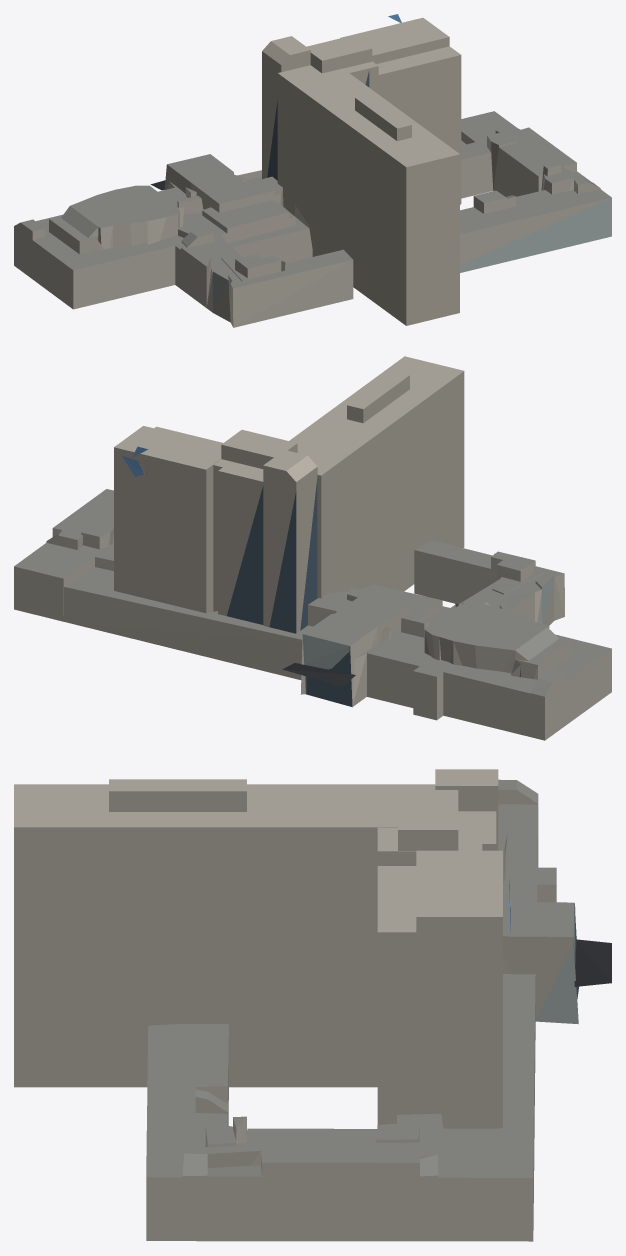
Rendered from vu-hoofdgebouw.lod2.glb.
3 renders of one model, top to bottom at view 1: azimuth 30°, elevation 25°; view 2: azimuth 150°, elevation 25°; view 3: azimuth 270°, elevation 25°, orthographic. The views are drawn at different scales.
Visible parts, largest first — view 1: lod2; view 2: lod2; view 3: lod2.
Boxes of the visible parts, x1=… form: lod2: x1=14, y1=14, x2=611, y2=327; lod2: x1=14, y1=356, x2=611, y2=740; lod2: x1=14, y1=769, x2=611, y2=1241.
Bounding box in the file's own units: 193 × 67.01 × 128.
